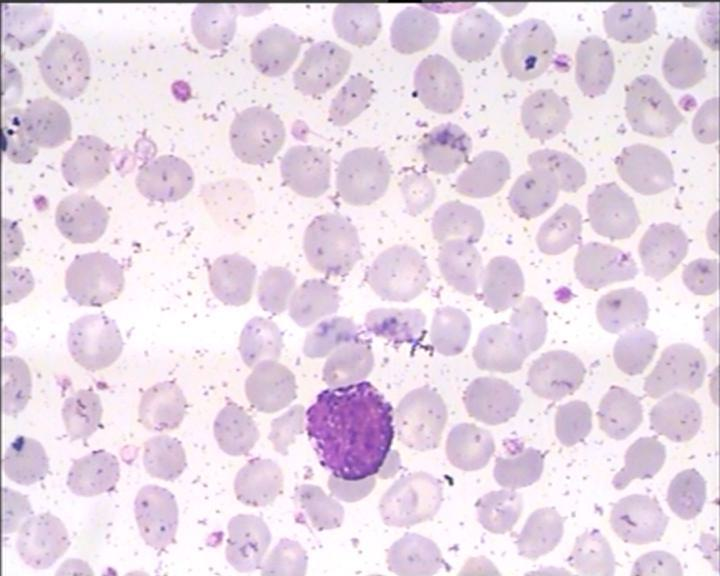baso: (303, 379, 394, 485)
